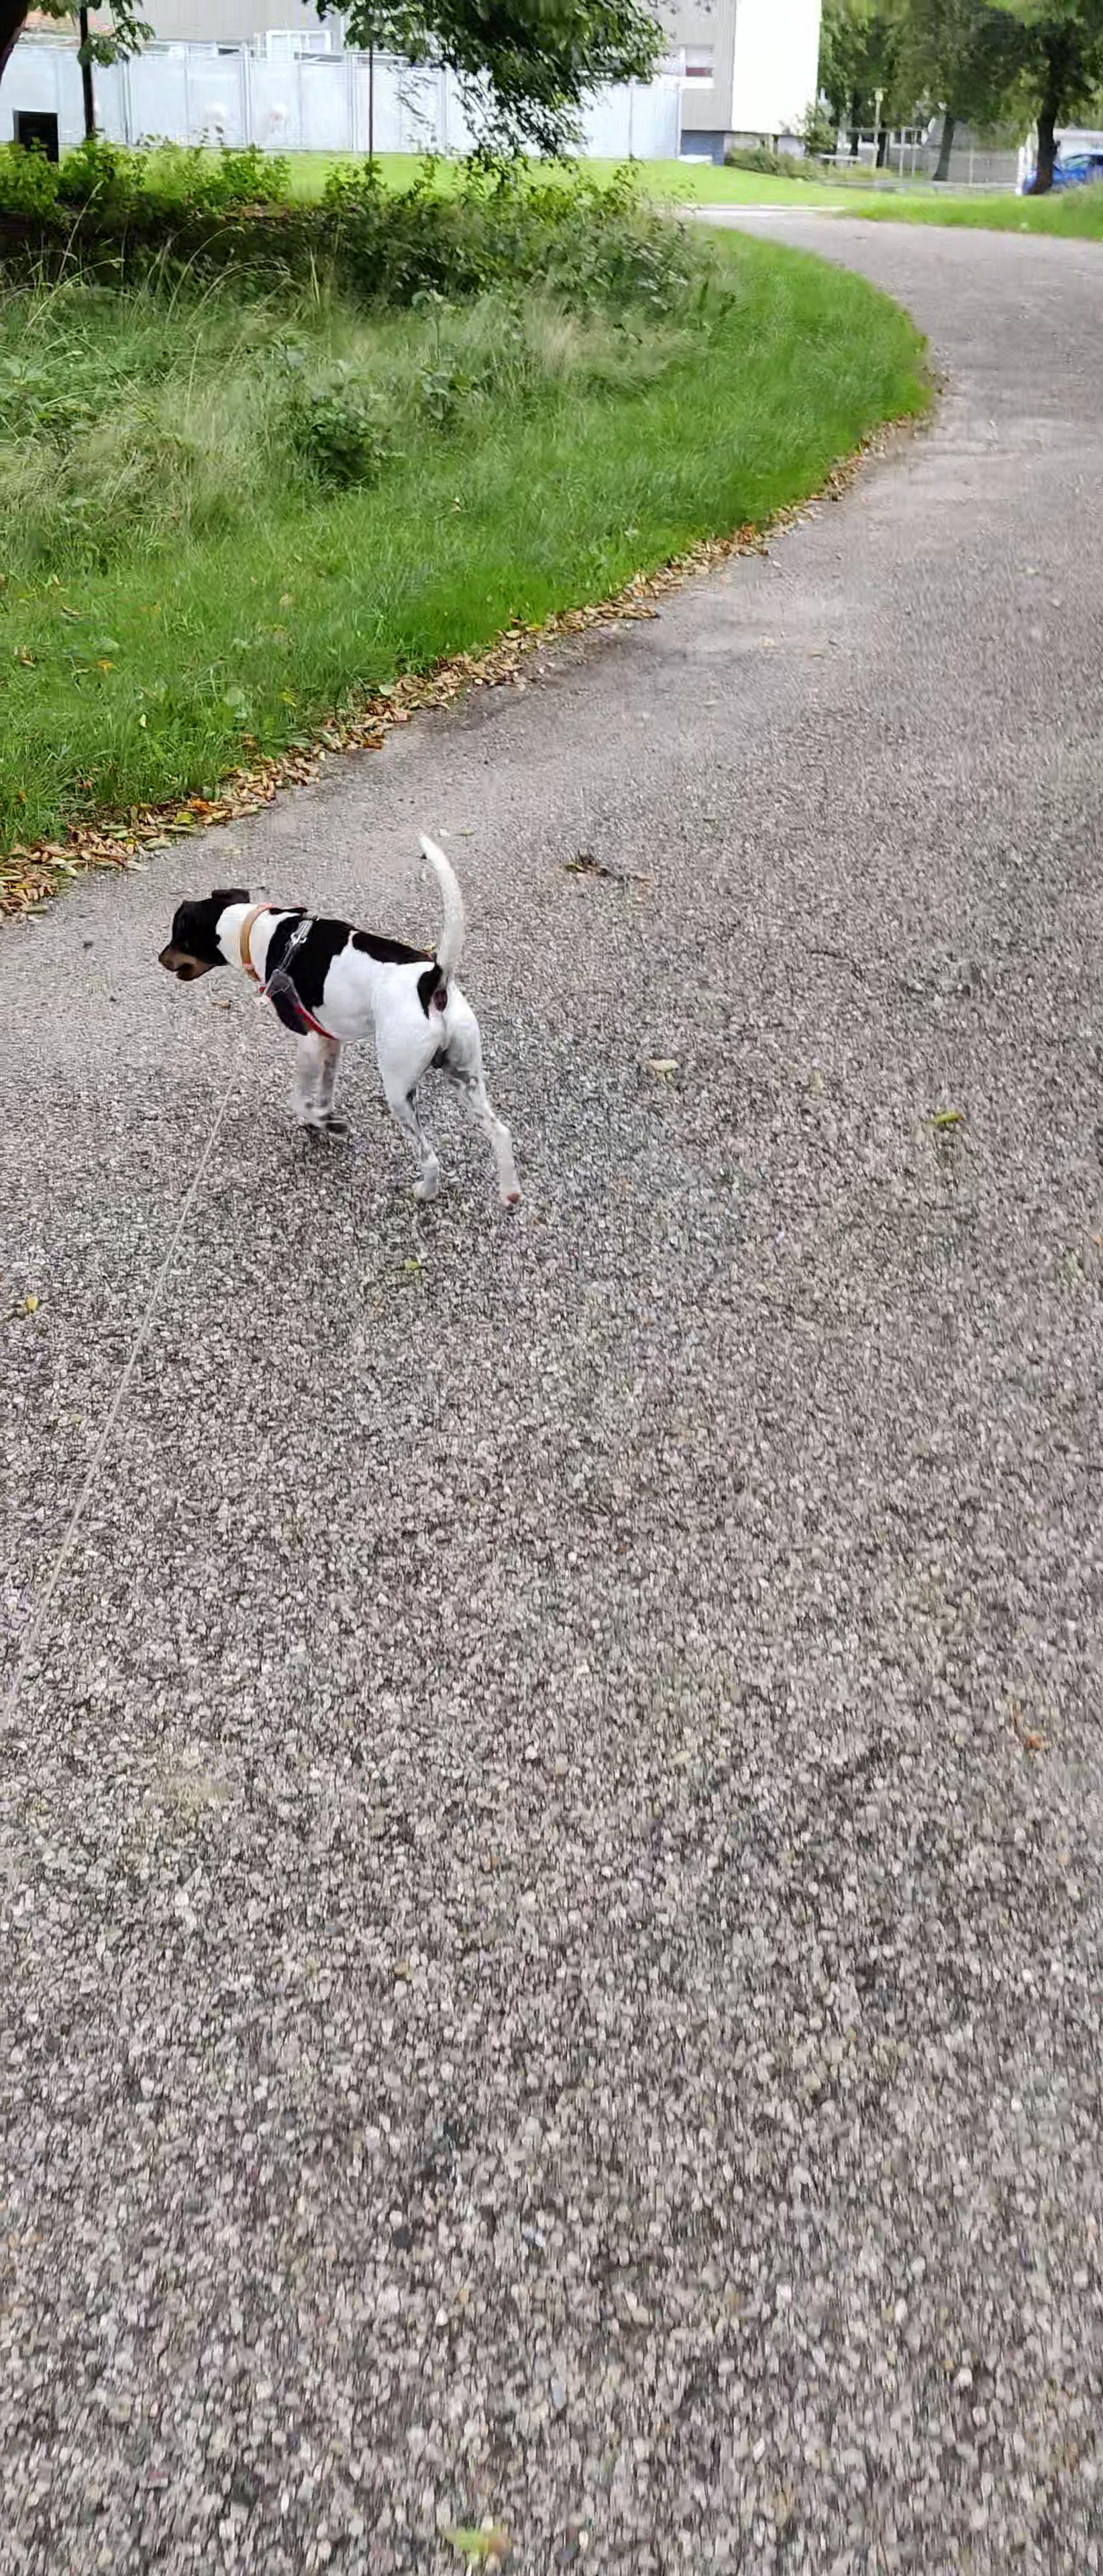Dog: (155, 833, 521, 1212)
